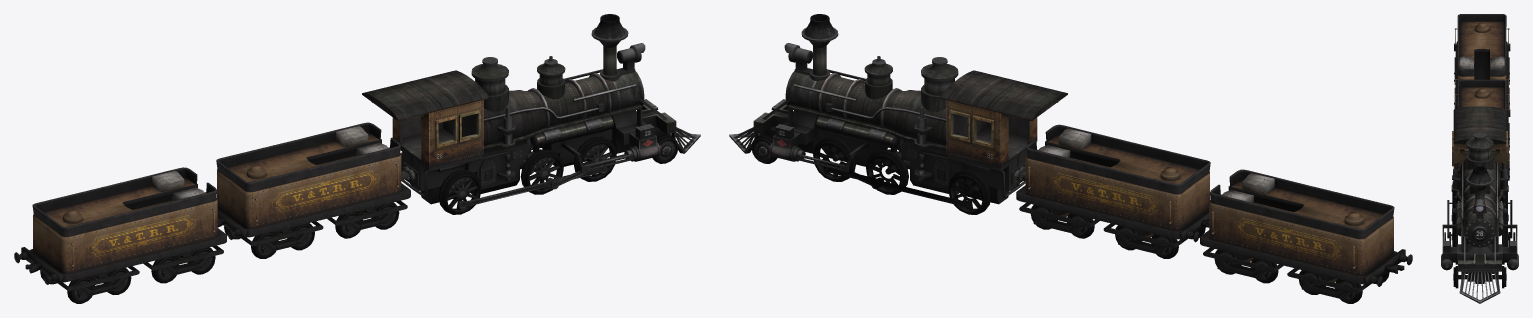
The model's file is train.fbx.
3 renders of one model, left to right at view 1: azimuth 30°, elevation 25°; view 2: azimuth 150°, elevation 25°; view 3: azimuth 270°, elevation 25°, orthographic. The views are drawn at different scales.
Visible parts, largest first — view 1: Cube.001, Cylinder.001, Cylinder, Cube.014, Cube.005, Cube.015, Cube.002, Cube.006; view 2: Cube.001, Cylinder.001, Cylinder, Cube.018, Cube.019, Cube.017, Cube.021, Cube.016; view 3: Cube.001, Cylinder.001, Cylinder, Cube.021, Cube.002, Cube.006, Cube.017, Cube.015, Cube.016, Cube.019, Cube.005, Cube.018 (+1 smaller).
Part boxes in pixels (bbox=[...]): Cube.001: bbox=[362, 14, 700, 204]; Cylinder.001: bbox=[14, 167, 226, 298]; Cylinder: bbox=[216, 122, 410, 253]; Cube.014: bbox=[438, 169, 481, 214]; Cube.005: bbox=[520, 149, 563, 194]; Cube.015: bbox=[573, 136, 616, 181]; Cube.002: bbox=[458, 166, 607, 209]; Cube.006: bbox=[652, 134, 678, 163]; Cube.001: bbox=[729, 14, 1067, 204]; Cylinder.001: bbox=[1200, 169, 1412, 300]; Cylinder: bbox=[1016, 124, 1210, 255]; Cube.018: bbox=[948, 170, 991, 214]; Cube.019: bbox=[866, 149, 908, 194]; Cube.017: bbox=[813, 137, 855, 181]; Cube.021: bbox=[822, 166, 971, 209]; Cube.016: bbox=[751, 134, 777, 163]; Cube.001: bbox=[1441, 106, 1518, 303]; Cylinder.001: bbox=[1454, 14, 1510, 108]; Cylinder: bbox=[1454, 79, 1510, 183]; Cube.021: bbox=[1508, 200, 1512, 244]; Cube.002: bbox=[1447, 200, 1452, 244]; Cube.006: bbox=[1453, 266, 1458, 288]; Cube.017: bbox=[1502, 229, 1508, 264]; Cube.015: bbox=[1451, 229, 1457, 264]; Cube.016: bbox=[1502, 266, 1506, 288]; Cube.019: bbox=[1503, 211, 1508, 231]; Cube.005: bbox=[1451, 211, 1456, 231]; Cube.018: bbox=[1502, 183, 1508, 208].
Size of the model in its own units: 2013 by 412 by 276.
